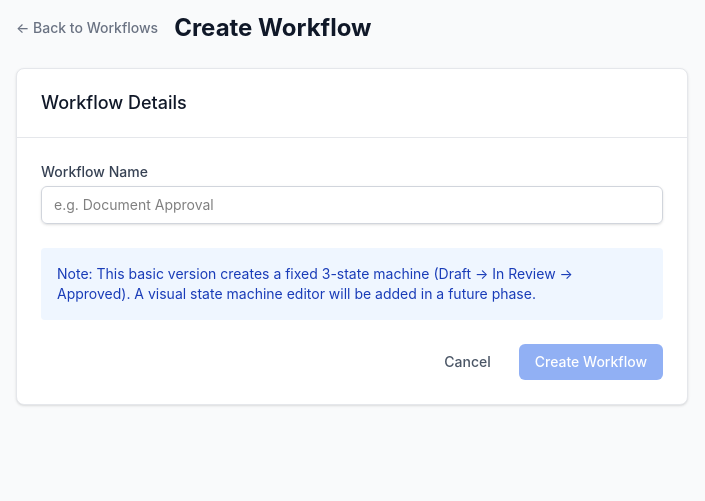
Test case: Workflow Features › WorkflowCreate › displays backend validation errors
This screenshot has width=705, height=501.
Type "Duplicate" into the field labelled "Workflow Name" at (352, 205), box [41,186,663,224]
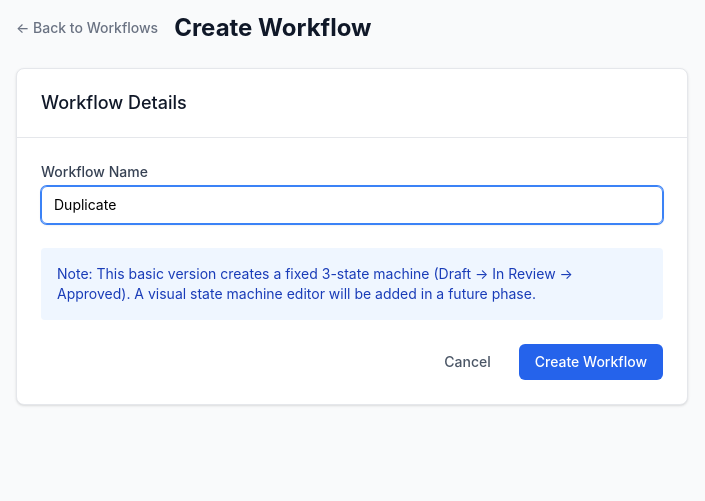
Click the button "Create Workflow" at (591, 362), box [519,344,663,380]
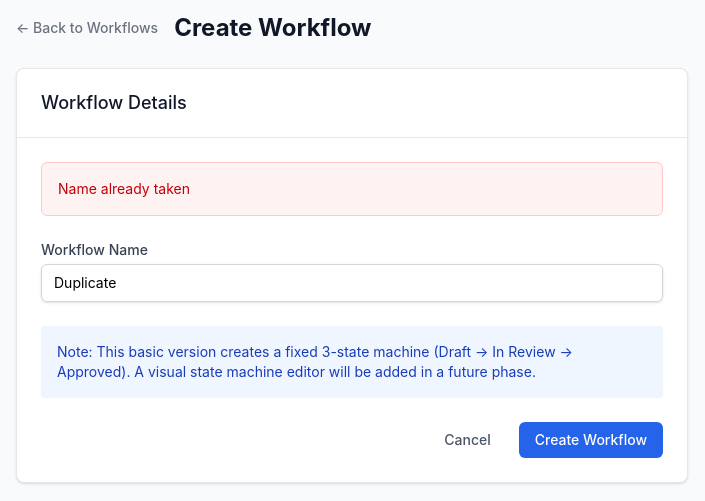
Now the text "Name already taken" is shown, box [41,162,663,216]
